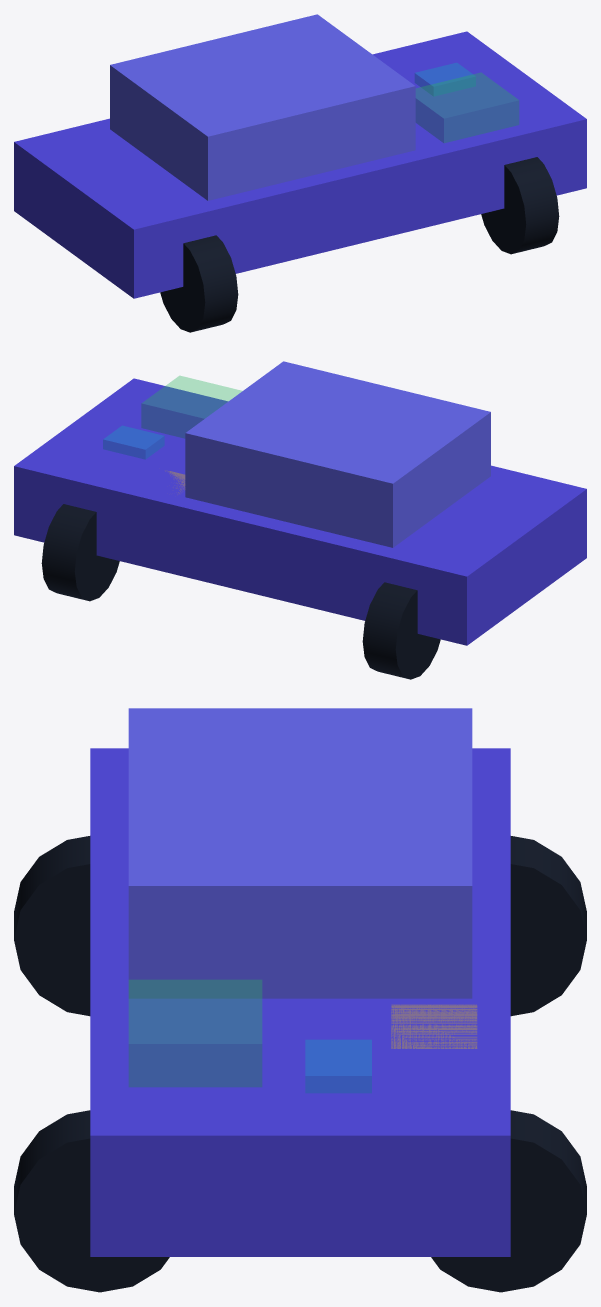
Rendered from diagnostics-demo-car.glb.
The picture shows the model from 3 angles, top to bottom: view 1: azimuth 30°, elevation 25°; view 2: azimuth 150°, elevation 25°; view 3: azimuth 270°, elevation 25°; orthographic projection. The views are drawn at different scales.
Parts seen in each view (by area): view 1: mesh_body, mesh_cabin, mesh_battery_zone, mesh_wheel_3, mesh_wheel_1, mesh_fuse_box_zone; view 2: mesh_body, mesh_cabin, mesh_wheel_4, mesh_wheel_2, mesh_battery_zone, mesh_fuse_box_zone; view 3: mesh_body, mesh_cabin, mesh_battery_zone, mesh_wheel_1, mesh_wheel_2, mesh_wheel_3, mesh_wheel_4, mesh_fuse_box_zone, mesh_alternator_zone.
Part boxes in pixels (box(x1,y1,x2,y2)): mesh_body: box(14, 31, 586, 298); mesh_cabin: box(110, 14, 415, 200); mesh_battery_zone: box(416, 72, 518, 142); mesh_wheel_3: box(160, 235, 238, 332); mesh_wheel_1: box(481, 157, 559, 254); mesh_fuse_box_zone: box(415, 63, 475, 95); mesh_body: box(14, 378, 586, 645); mesh_cabin: box(185, 361, 490, 547); mesh_wheel_4: box(362, 582, 440, 679); mesh_wheel_2: box(41, 504, 119, 601); mesh_battery_zone: box(141, 376, 241, 438); mesh_fuse_box_zone: box(103, 425, 164, 459); mesh_body: box(90, 748, 510, 1256); mesh_cabin: box(128, 708, 472, 998); mesh_battery_zone: box(129, 980, 261, 1086); mesh_wheel_1: box(14, 1110, 169, 1292); mesh_wheel_2: box(431, 1110, 586, 1292); mesh_wheel_3: box(14, 836, 90, 1016); mesh_wheel_4: box(510, 836, 586, 1016); mesh_fuse_box_zone: box(305, 1040, 371, 1092); mesh_alternator_zone: box(391, 1005, 476, 1048).
Bounding box in the file's own units: 4.8 × 1.8 × 3.
